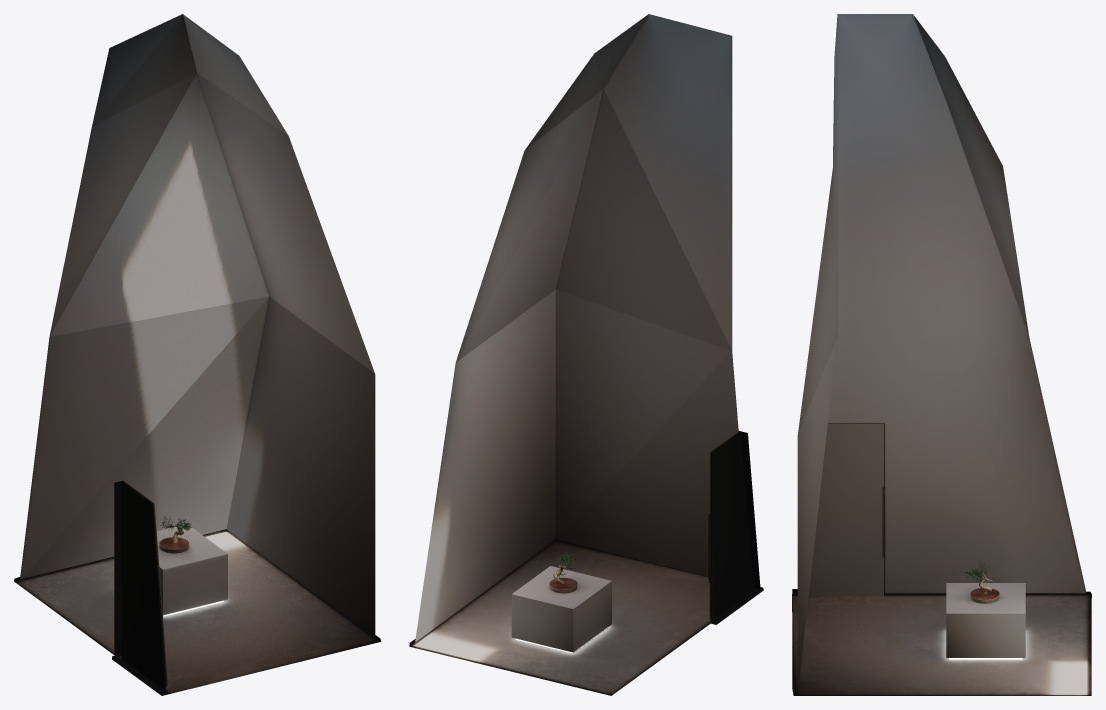
3 renders of one model, left to right at view 1: azimuth 30°, elevation 25°; view 2: azimuth 150°, elevation 25°; view 3: azimuth 270°, elevation 25°, orthographic. The views are drawn at different scales.
Parts seen in each view (by area): view 1: walls, floor, postument; view 2: walls, floor, postument; view 3: walls, floor, postument, bonsai.
Boxes of the visible parts, x1,y1,x2,y2 form: walls: [14, 14, 380, 659]; floor: [14, 481, 380, 695]; postument: [156, 524, 227, 616]; walls: [409, 14, 763, 646]; floor: [410, 431, 763, 695]; postument: [511, 566, 611, 653]; walls: [792, 14, 1091, 694]; floor: [792, 423, 1091, 695]; postument: [946, 583, 1025, 659]; bonsai: [970, 569, 1000, 603].
Size of the model in its own units: 168 by 437 by 204.
10 materials, 8 textured.
